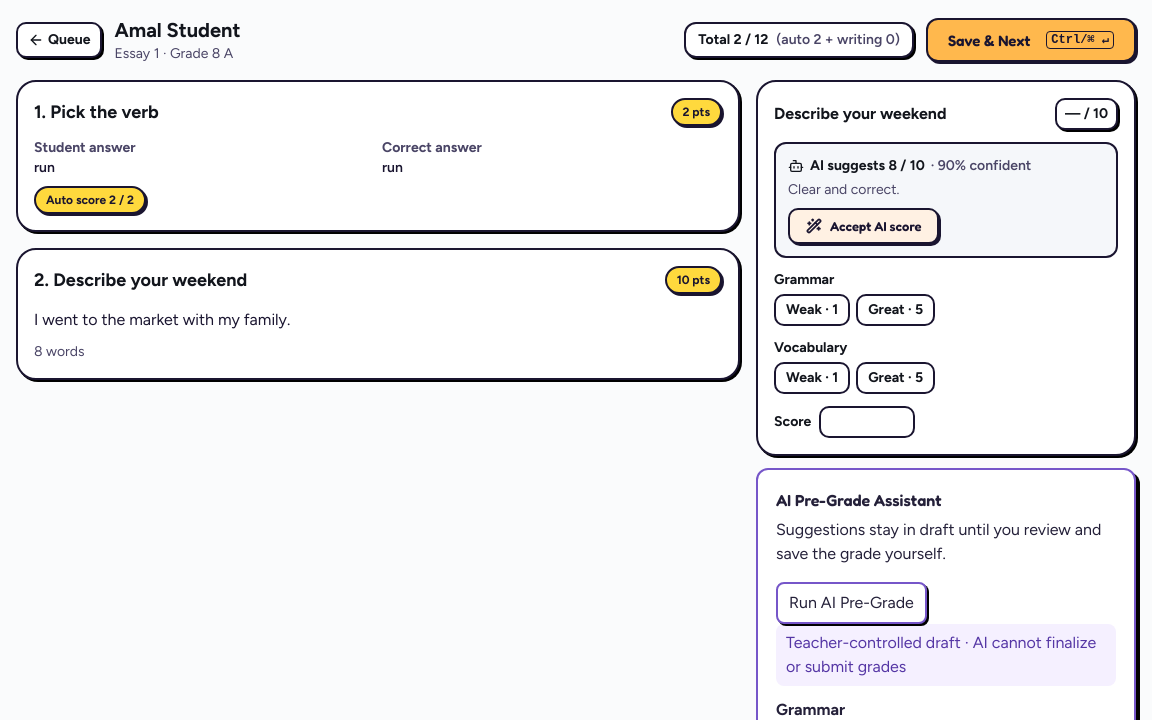
Test case: GradingScreenPage › recalculates the score as soon as a rubric level is tapped
Expected: the text "I went to the market with my family." is shown, [34,310,290,329]
Expected: the element with test id "total-score" shows "Total 2 / 12", [684,22,914,58]
Click the 1st radio button labelled "Great · 5": {"x": 896, "y": 310} [856,294,935,326]
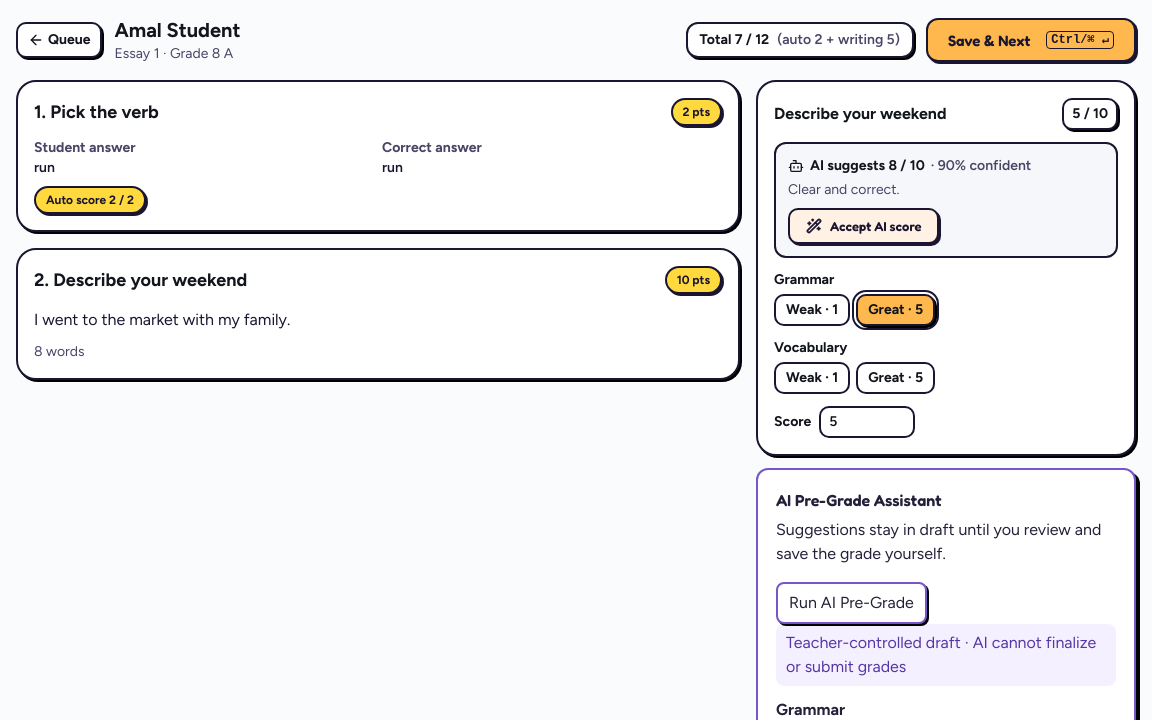
Now the text with test id "score-q2" reads "5 / 10", box [1062,98,1118,130]
Now the element with test id "total-score" shows "Total 7 / 12", box [686,22,914,58]
Click the 2nd radio button labelled "Great · 5": {"x": 896, "y": 378} [856,362,935,394]
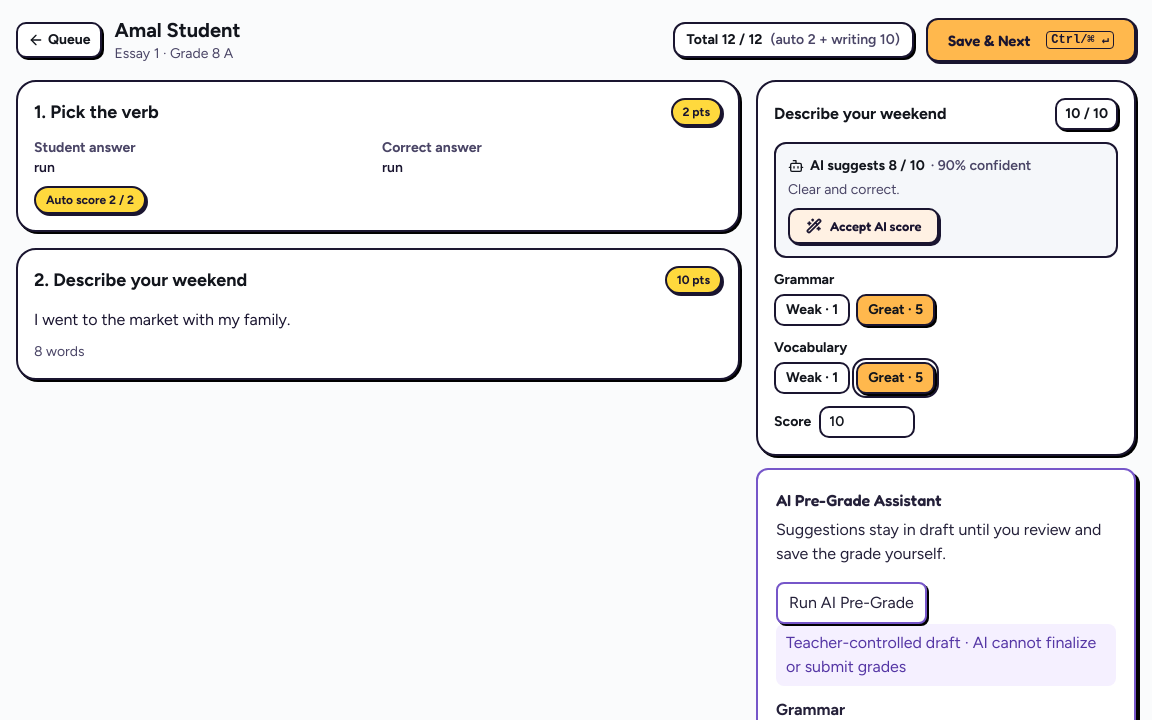
Now the text with test id "score-q2" reads "10 / 10", box [1055,98,1118,130]
Now the element with test id "total-score" shows "Total 12 / 12", box [672,22,914,58]
